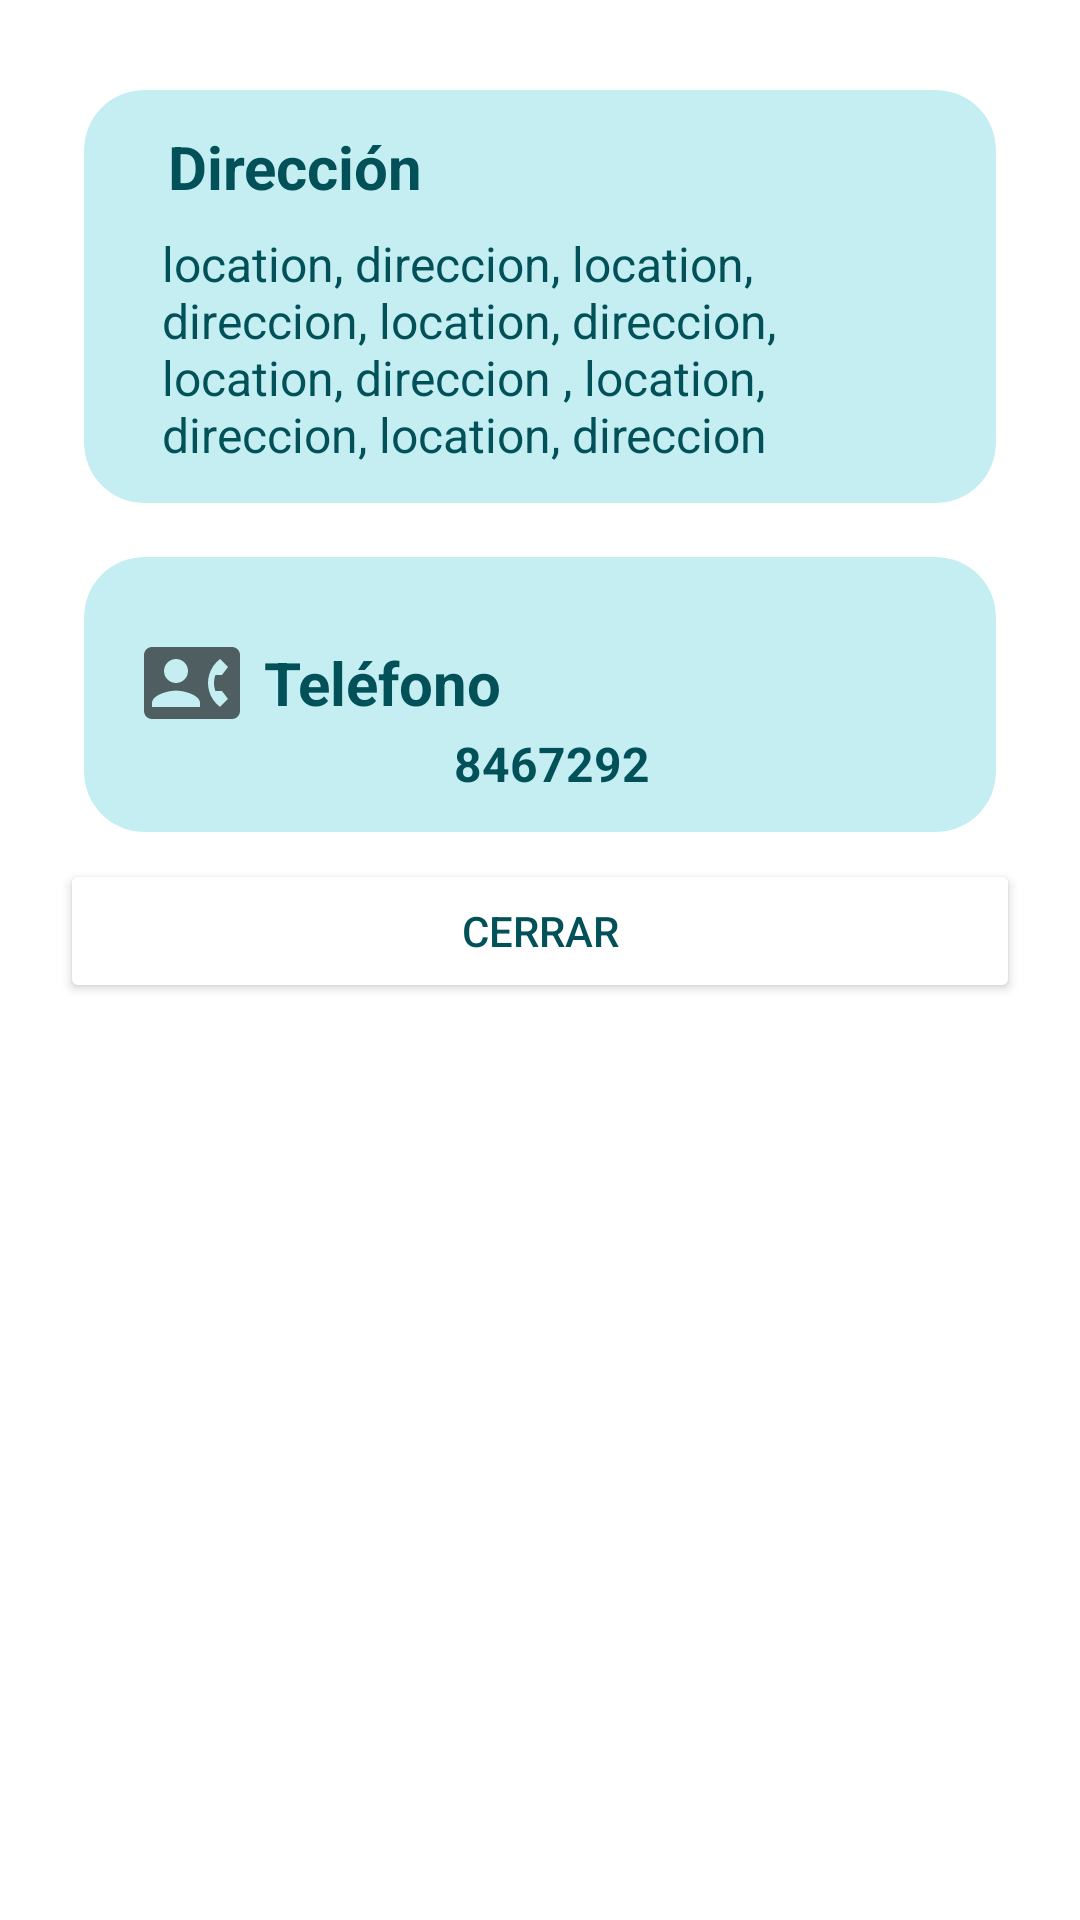

Named icons in this screenshot (1080 x 1920) and their bounding boxes, box(x1, y1, x2, y2):
contact phone: box(144, 647, 240, 719)
